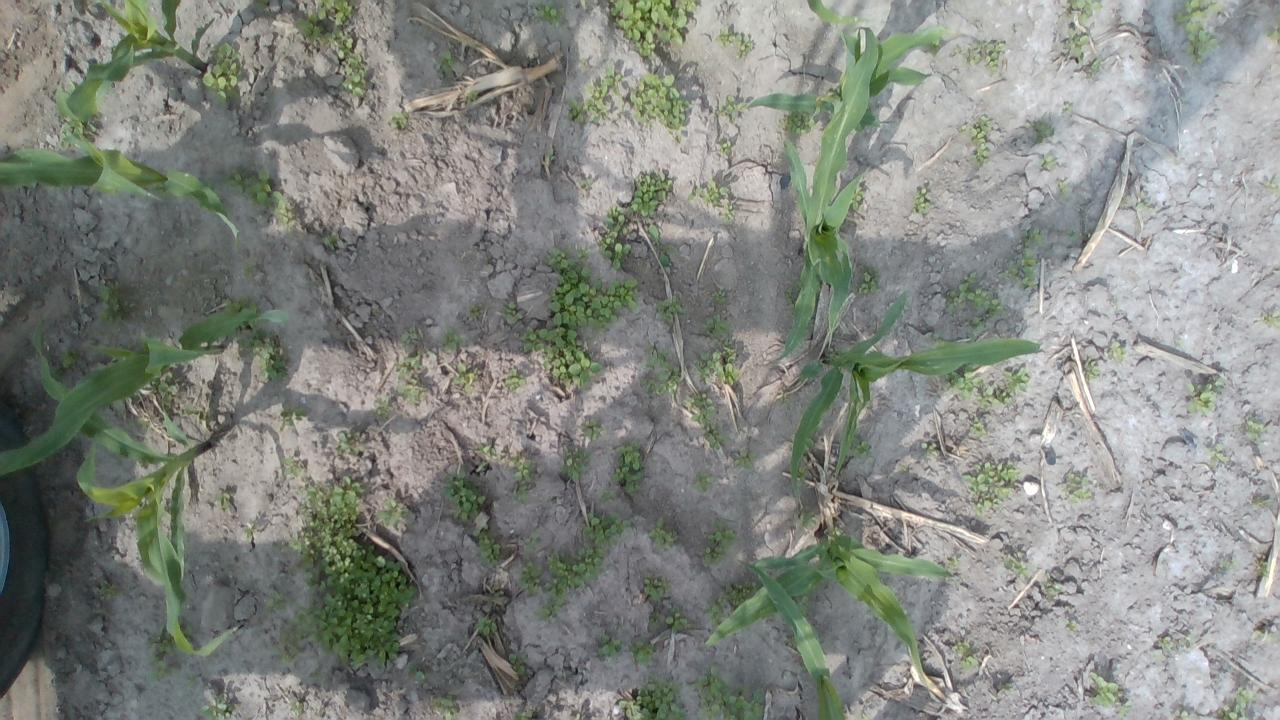Maize: (16, 316, 248, 664), (788, 294, 1042, 507), (0, 307, 288, 478), (700, 530, 956, 684), (0, 86, 242, 241), (781, 30, 879, 371), (744, 0, 942, 137), (739, 556, 844, 720), (68, 0, 207, 114)
Weeds: (280, 478, 417, 679), (545, 248, 639, 329), (536, 545, 608, 623), (606, 0, 700, 59), (520, 324, 601, 391), (690, 664, 764, 720), (222, 166, 288, 224), (628, 71, 686, 130), (962, 462, 1022, 517), (568, 64, 622, 124), (1174, 0, 1224, 64), (239, 321, 291, 381), (618, 678, 688, 720), (946, 282, 1004, 332), (438, 470, 486, 525), (205, 43, 242, 108), (627, 168, 673, 219), (294, 0, 352, 40), (694, 340, 741, 388), (598, 206, 632, 270), (640, 347, 680, 397), (581, 510, 635, 546), (611, 439, 645, 494), (1184, 372, 1224, 418), (146, 630, 180, 684), (98, 284, 140, 326), (702, 520, 736, 570), (964, 39, 1008, 76), (1001, 248, 1038, 290), (716, 22, 754, 62), (510, 454, 538, 506), (1084, 670, 1118, 710), (942, 368, 984, 400), (970, 114, 993, 166), (1220, 687, 1256, 720), (688, 178, 730, 206), (647, 607, 689, 635), (343, 54, 369, 99), (58, 119, 98, 148), (558, 447, 590, 483), (648, 222, 674, 266), (474, 525, 501, 567), (648, 518, 681, 552), (1152, 634, 1192, 662), (1060, 0, 1104, 25), (142, 368, 178, 396), (726, 580, 762, 608), (654, 292, 686, 323), (688, 391, 716, 426), (532, 0, 568, 26), (642, 574, 674, 603), (198, 694, 232, 720), (782, 109, 815, 135), (1062, 32, 1090, 62), (1063, 473, 1091, 503), (856, 262, 880, 296), (453, 363, 478, 395), (704, 426, 736, 451), (978, 385, 1010, 410), (702, 314, 734, 338), (518, 561, 542, 593), (790, 584, 811, 620), (630, 638, 659, 664), (1004, 366, 1030, 394), (721, 94, 748, 120), (278, 403, 308, 426), (440, 327, 466, 353), (596, 631, 622, 657), (432, 695, 458, 720), (436, 50, 459, 78), (282, 455, 306, 481), (222, 296, 258, 313), (1206, 443, 1231, 467), (397, 383, 422, 407), (706, 597, 726, 626), (580, 416, 602, 442), (336, 430, 362, 452), (734, 447, 758, 470), (1244, 415, 1264, 442), (1034, 121, 1056, 144), (1009, 554, 1030, 578), (264, 591, 288, 612), (508, 651, 528, 676), (968, 416, 987, 441), (1110, 340, 1130, 362), (400, 323, 419, 346), (399, 356, 422, 375), (694, 470, 714, 491), (504, 368, 522, 391), (912, 187, 928, 212), (389, 112, 411, 130), (501, 302, 520, 322), (849, 185, 864, 210), (799, 511, 818, 530), (476, 616, 496, 634), (408, 662, 426, 682), (61, 347, 78, 368), (336, 38, 354, 57), (1084, 360, 1102, 379), (724, 202, 738, 226), (181, 621, 198, 640), (321, 232, 341, 248), (100, 582, 116, 602), (375, 399, 391, 419), (1252, 497, 1274, 511), (952, 638, 969, 656), (927, 330, 945, 347), (216, 490, 230, 511), (1263, 178, 1280, 195), (827, 525, 844, 542), (921, 440, 938, 457), (1044, 582, 1062, 598), (601, 488, 619, 504), (522, 537, 538, 555), (1055, 179, 1071, 196), (854, 439, 870, 456), (1025, 229, 1043, 244), (961, 655, 977, 671), (1262, 313, 1280, 327), (576, 176, 594, 190), (478, 444, 497, 457), (712, 288, 727, 304), (1089, 56, 1104, 71), (1256, 562, 1270, 578), (776, 391, 790, 407), (512, 709, 532, 720), (784, 286, 796, 304), (242, 523, 256, 538), (468, 305, 483, 319), (963, 272, 978, 286), (1064, 620, 1080, 633), (1040, 155, 1054, 169), (927, 38, 940, 52), (721, 140, 732, 156), (1068, 226, 1078, 243), (1268, 28, 1280, 42), (66, 80, 78, 94), (242, 264, 252, 280), (548, 142, 556, 162), (183, 404, 196, 416), (1174, 710, 1189, 720), (798, 465, 806, 483), (1134, 199, 1148, 209), (294, 702, 303, 716), (854, 122, 866, 132), (1220, 560, 1232, 570), (946, 558, 958, 568), (1118, 706, 1128, 717), (476, 463, 487, 473), (1268, 632, 1278, 642), (1063, 102, 1072, 113)
